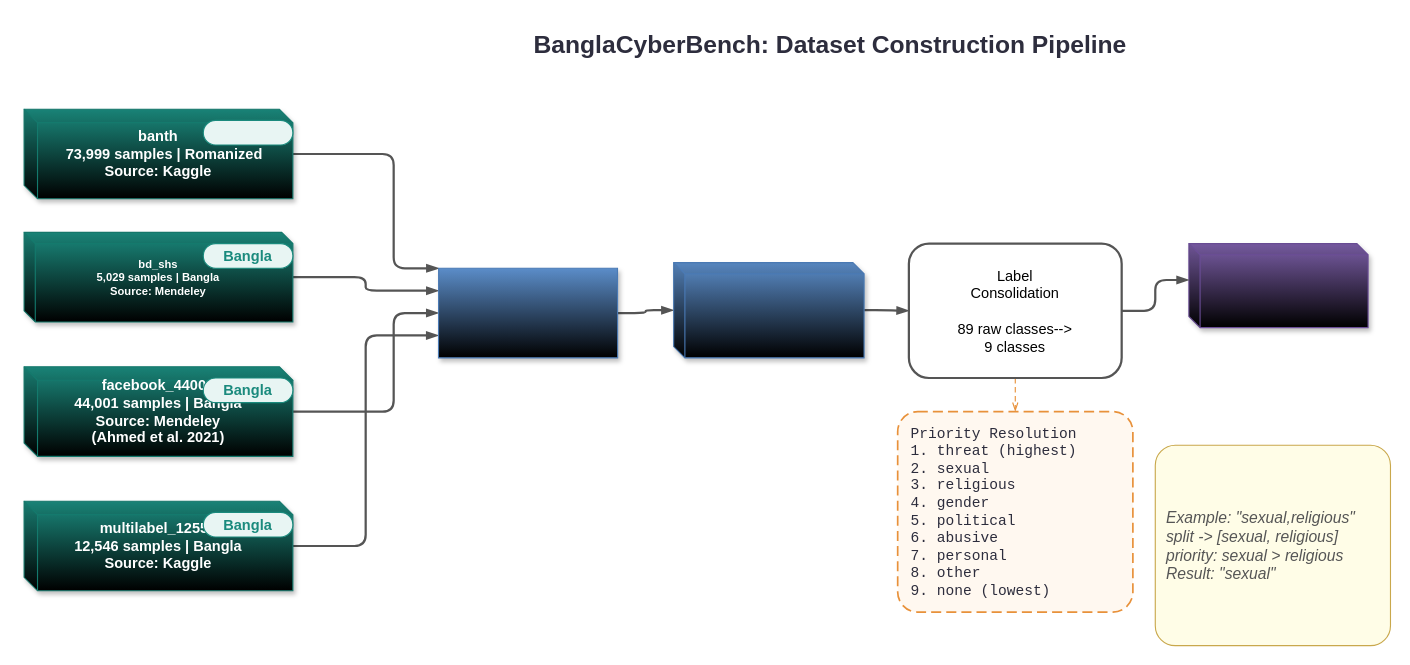
Some shapes in this 1410 by 665 pixel diagram are drawn without their labels. The centre of each missing label's shape, as x and y in pixels:
"Merge 135,575 total samples" goes at point 528,314.
"Romanized" goes at point 247,132.
"Stratified Split 80 / 10 / 10" goes at point 1279,286.
"Text Cleaning Whitespace norm Emoji mapping URL removal" goes at point 769,311.
